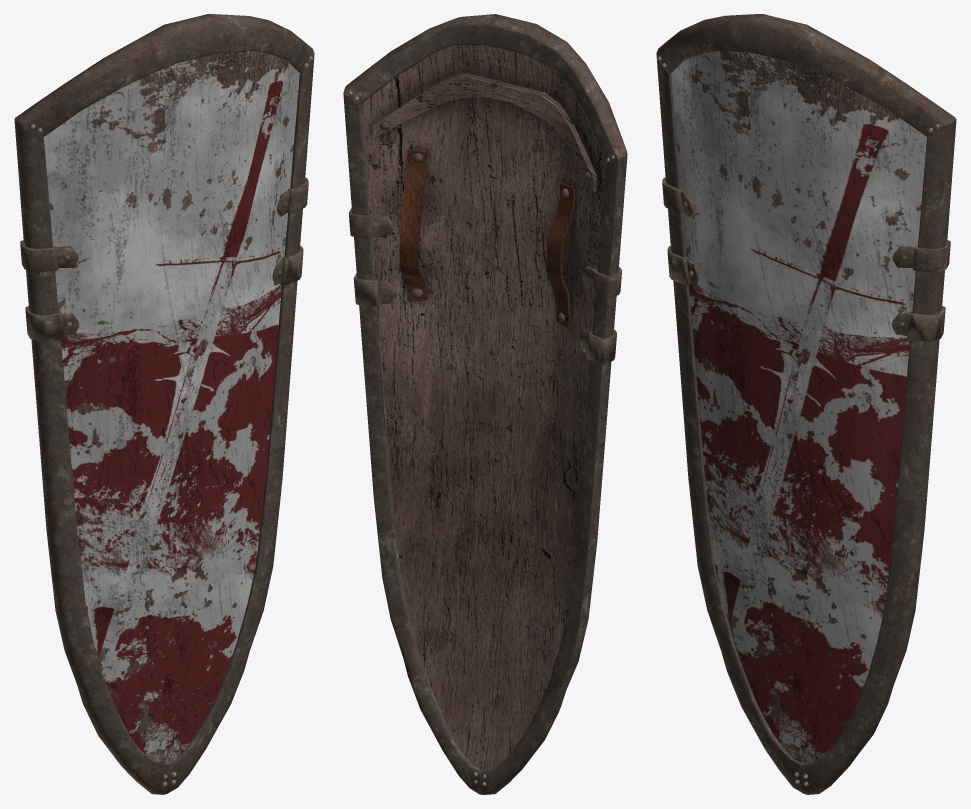
Rendered from kite_shield.glb.
The picture shows the model from 3 angles, left to right: view 1: azimuth 30°, elevation 25°; view 2: azimuth 150°, elevation 25°; view 3: azimuth 330°, elevation 25°; orthographic projection. The views are drawn at different scales.
Parts seen in each view (by area): view 1: kite_shield_body, kite_shield_metal_trim, kite_shield_clamps_and_bolts; view 2: kite_shield_body, kite_shield_metal_trim, kite_shield_clamps_and_bolts; view 3: kite_shield_body, kite_shield_metal_trim, kite_shield_clamps_and_bolts.
Boxes of the visible parts, bbox=[...] form: kite_shield_body: bbox=[43, 51, 300, 764]; kite_shield_metal_trim: bbox=[14, 14, 314, 794]; kite_shield_clamps_and_bolts: bbox=[20, 56, 312, 786]; kite_shield_body: bbox=[361, 45, 606, 770]; kite_shield_metal_trim: bbox=[343, 14, 627, 794]; kite_shield_clamps_and_bolts: bbox=[348, 91, 621, 786]; kite_shield_body: bbox=[671, 51, 927, 763]; kite_shield_metal_trim: bbox=[656, 14, 956, 794]; kite_shield_clamps_and_bolts: bbox=[658, 56, 950, 786].
Size of the model in its own units: 0.5433 by 1.39 by 0.1347.
2 materials, 2 textured.
